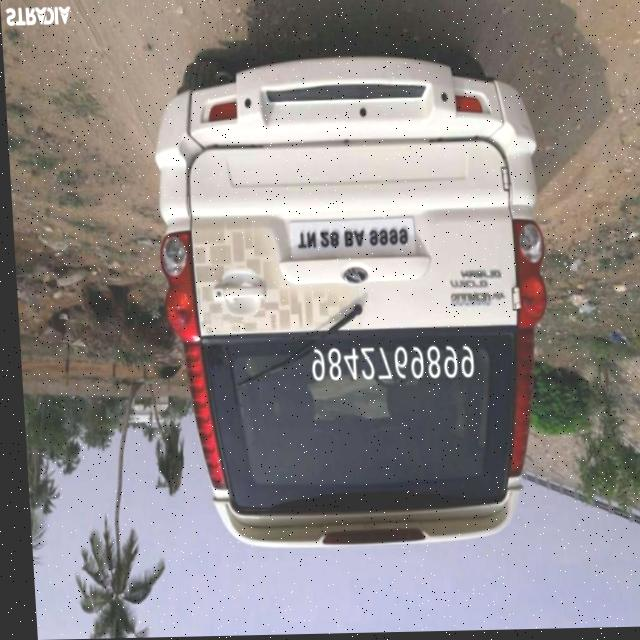plate: (286, 220, 414, 260)
